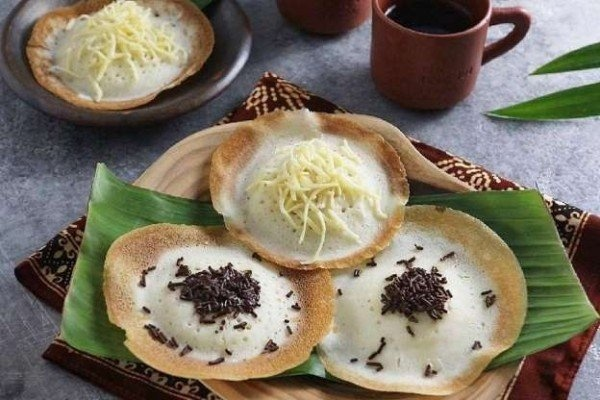srabi: (86, 218, 338, 395), (314, 212, 540, 394), (201, 104, 421, 269), (20, 5, 219, 104)
